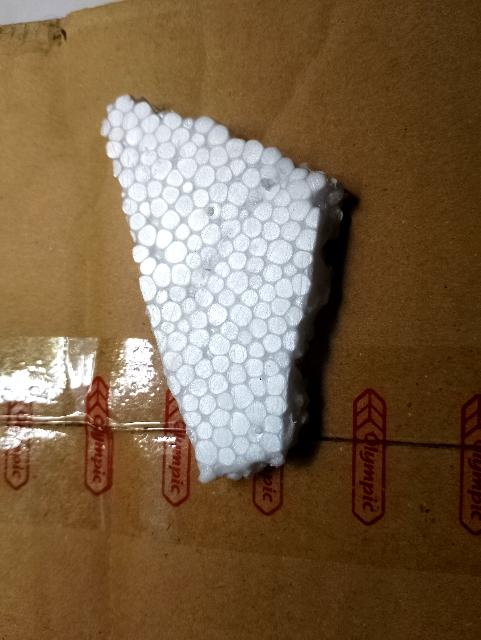cocksheet: (103, 94, 343, 465)
